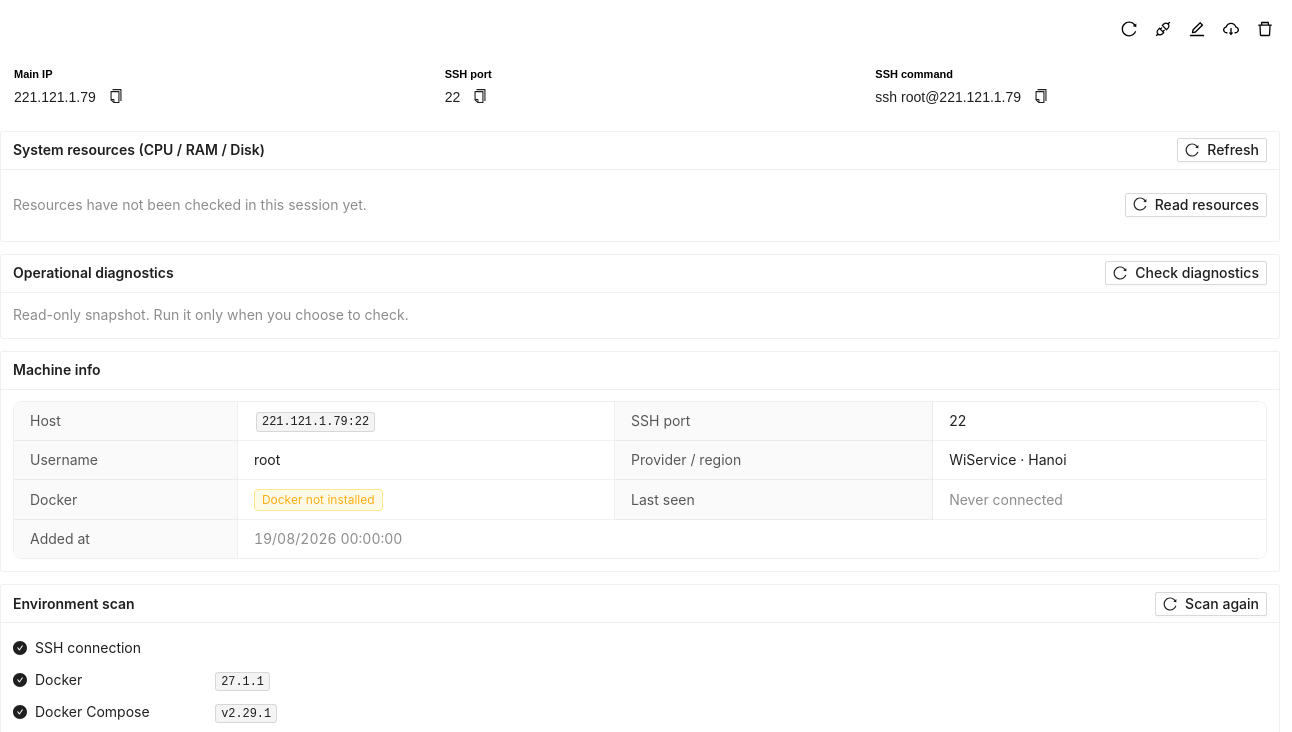
it: VpsOverviewTab — card Environment scan › ignores out-of-order refresh responses so the newer sample remains visible
This screenshot has width=1292, height=732.
Click the button "Check diagnostics": (1186, 273) [1105,261,1267,285]
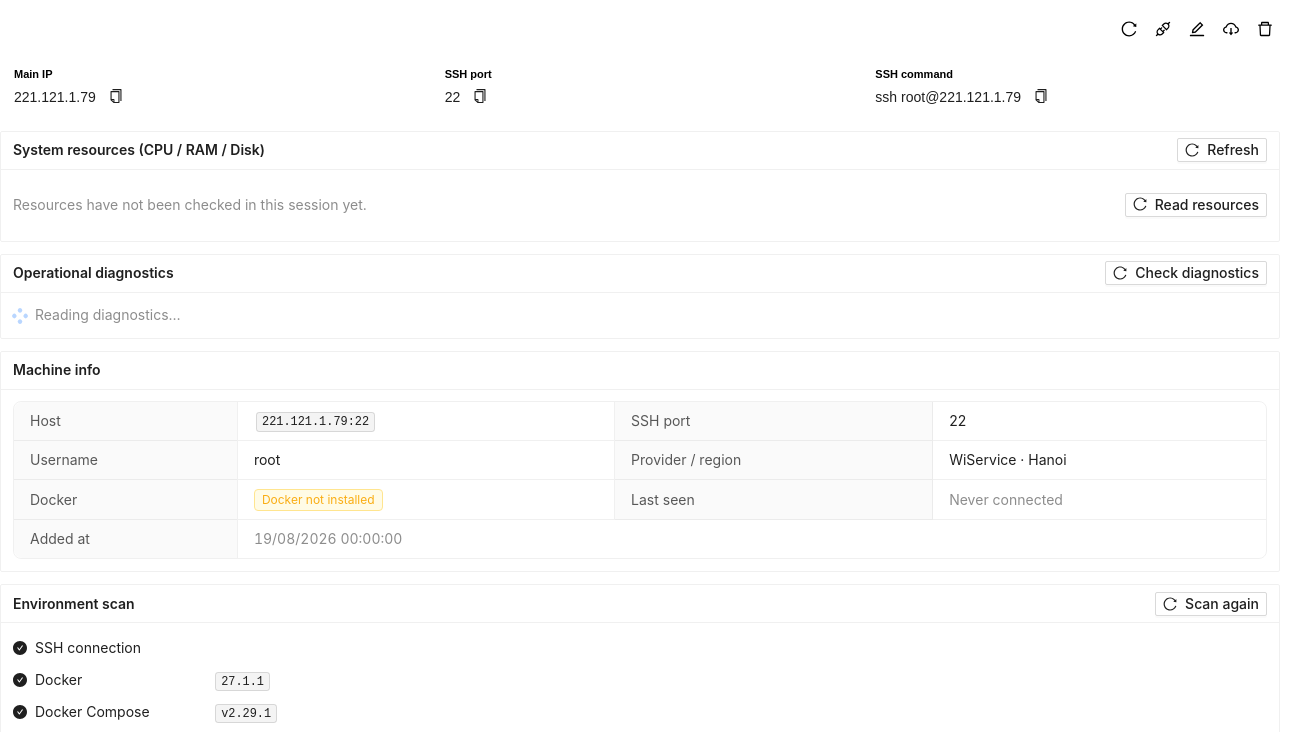
Click the button "Check diagnostics": (1186, 273) [1105,261,1267,285]
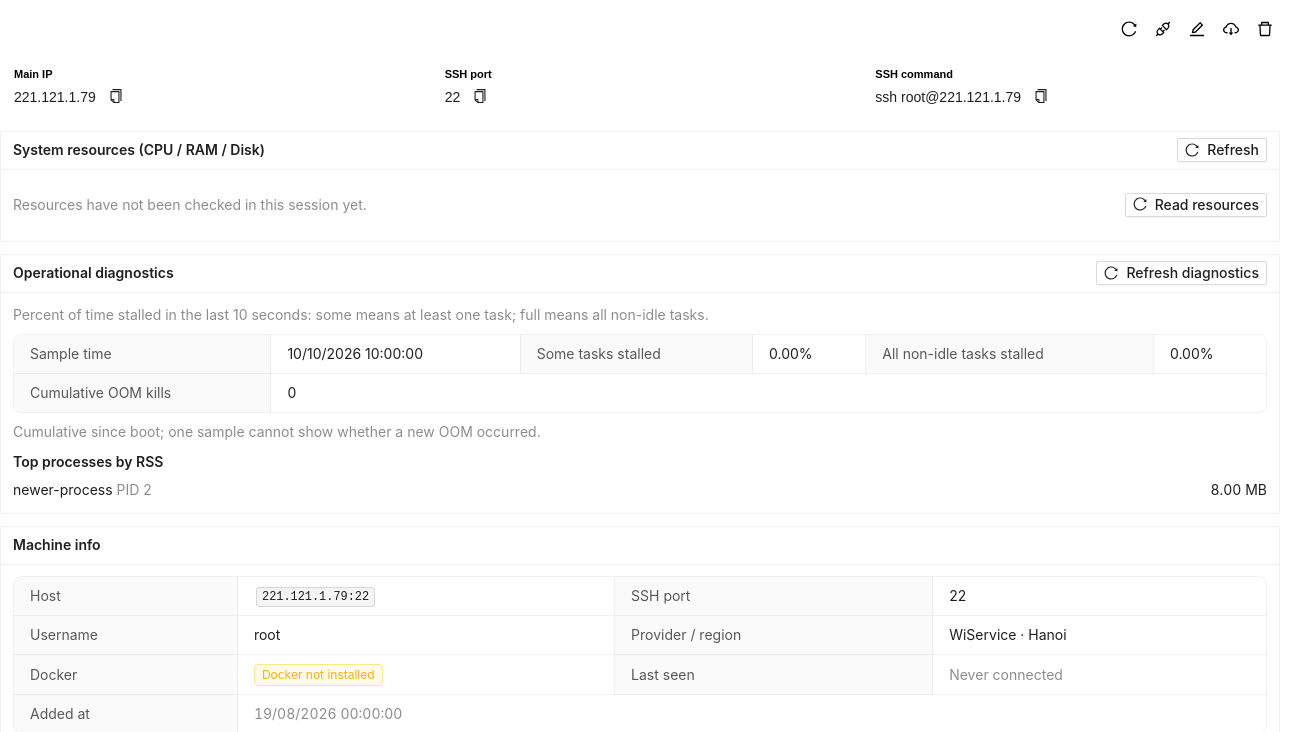
Expected: the text "newer-process" is shown, [13,481,113,498]
